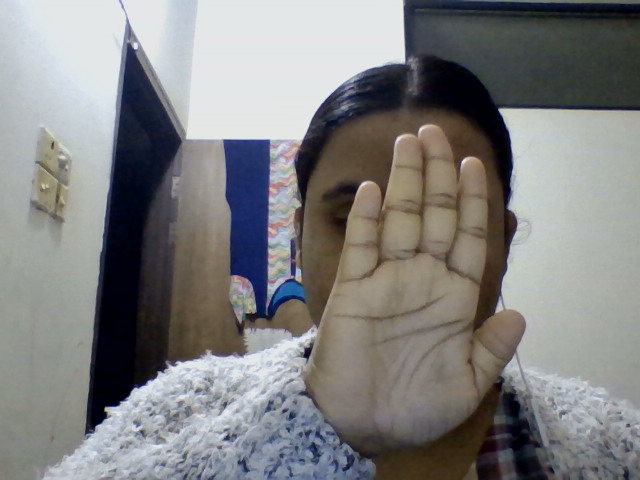hello: (296, 123, 569, 465)
